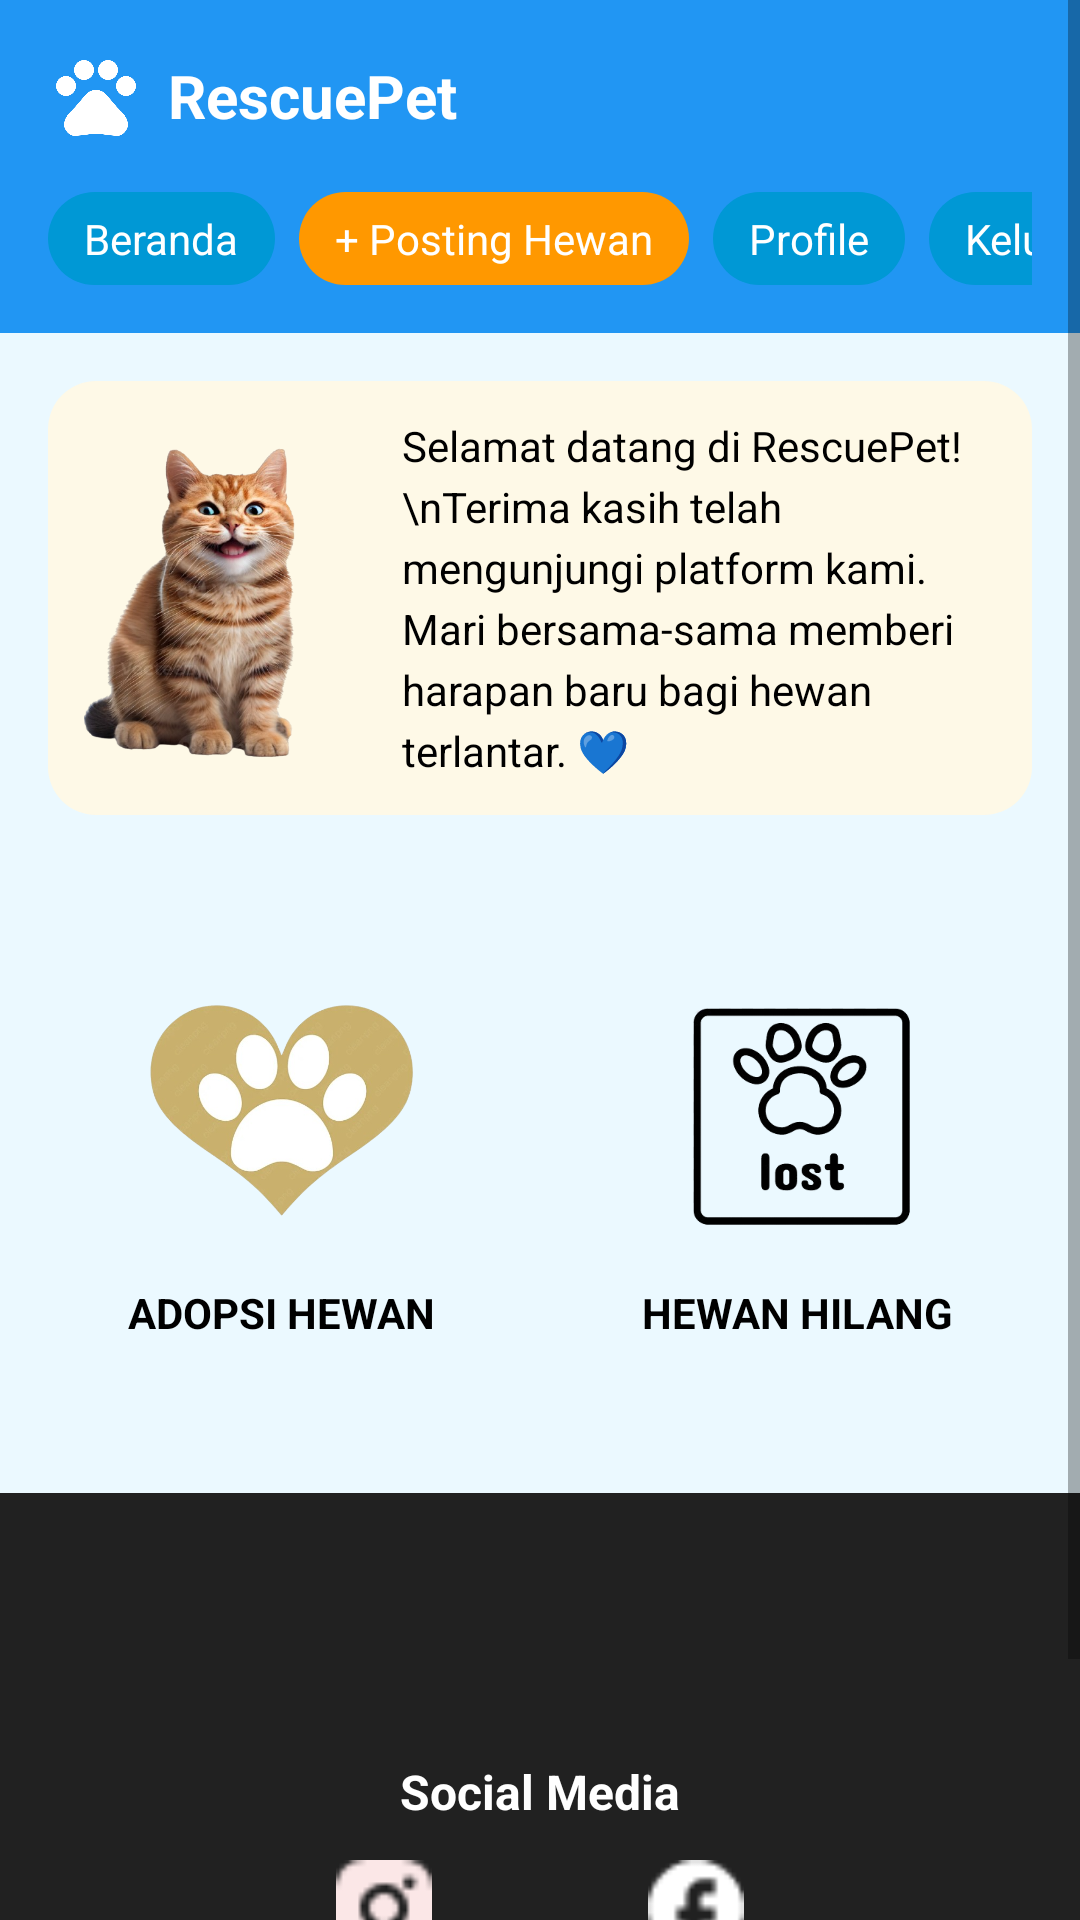

Named icons in this screenshot (1080*1920) and their centers, point (x, y):
cat: point (189, 603)
paw heart gold: point (281, 1110)
pets: point (96, 98)
